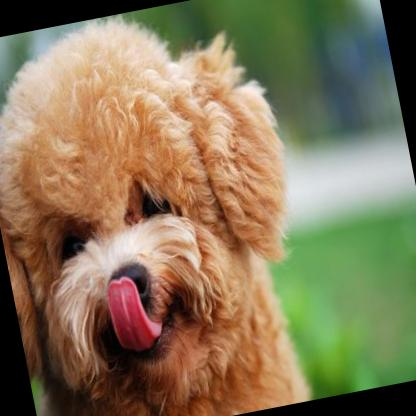toy_poodle: (0, 0, 332, 416)
